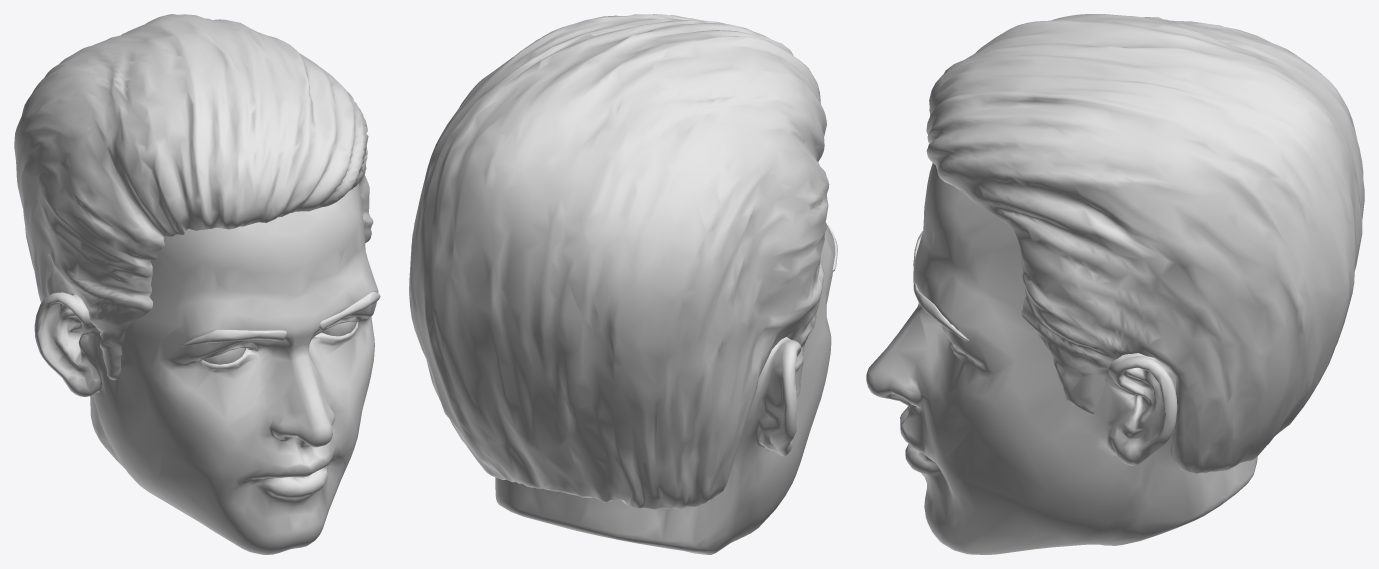
3 renders of one model, left to right at view 1: azimuth 30°, elevation 25°; view 2: azimuth 150°, elevation 25°; view 3: azimuth 270°, elevation 25°, orthographic. The views are drawn at different scales.
Visible parts, largest first — view 1: Object_5; view 2: Object_5; view 3: Object_5.
Boxes of the visible parts, box(x1,y1,x2,y2) form: Object_5: box(14, 14, 380, 554); Object_5: box(409, 14, 837, 554); Object_5: box(866, 14, 1364, 554).
Size of the model in its own units: 0.2565 by 0.3572 by 0.3181.
1 material, 1 textured.
